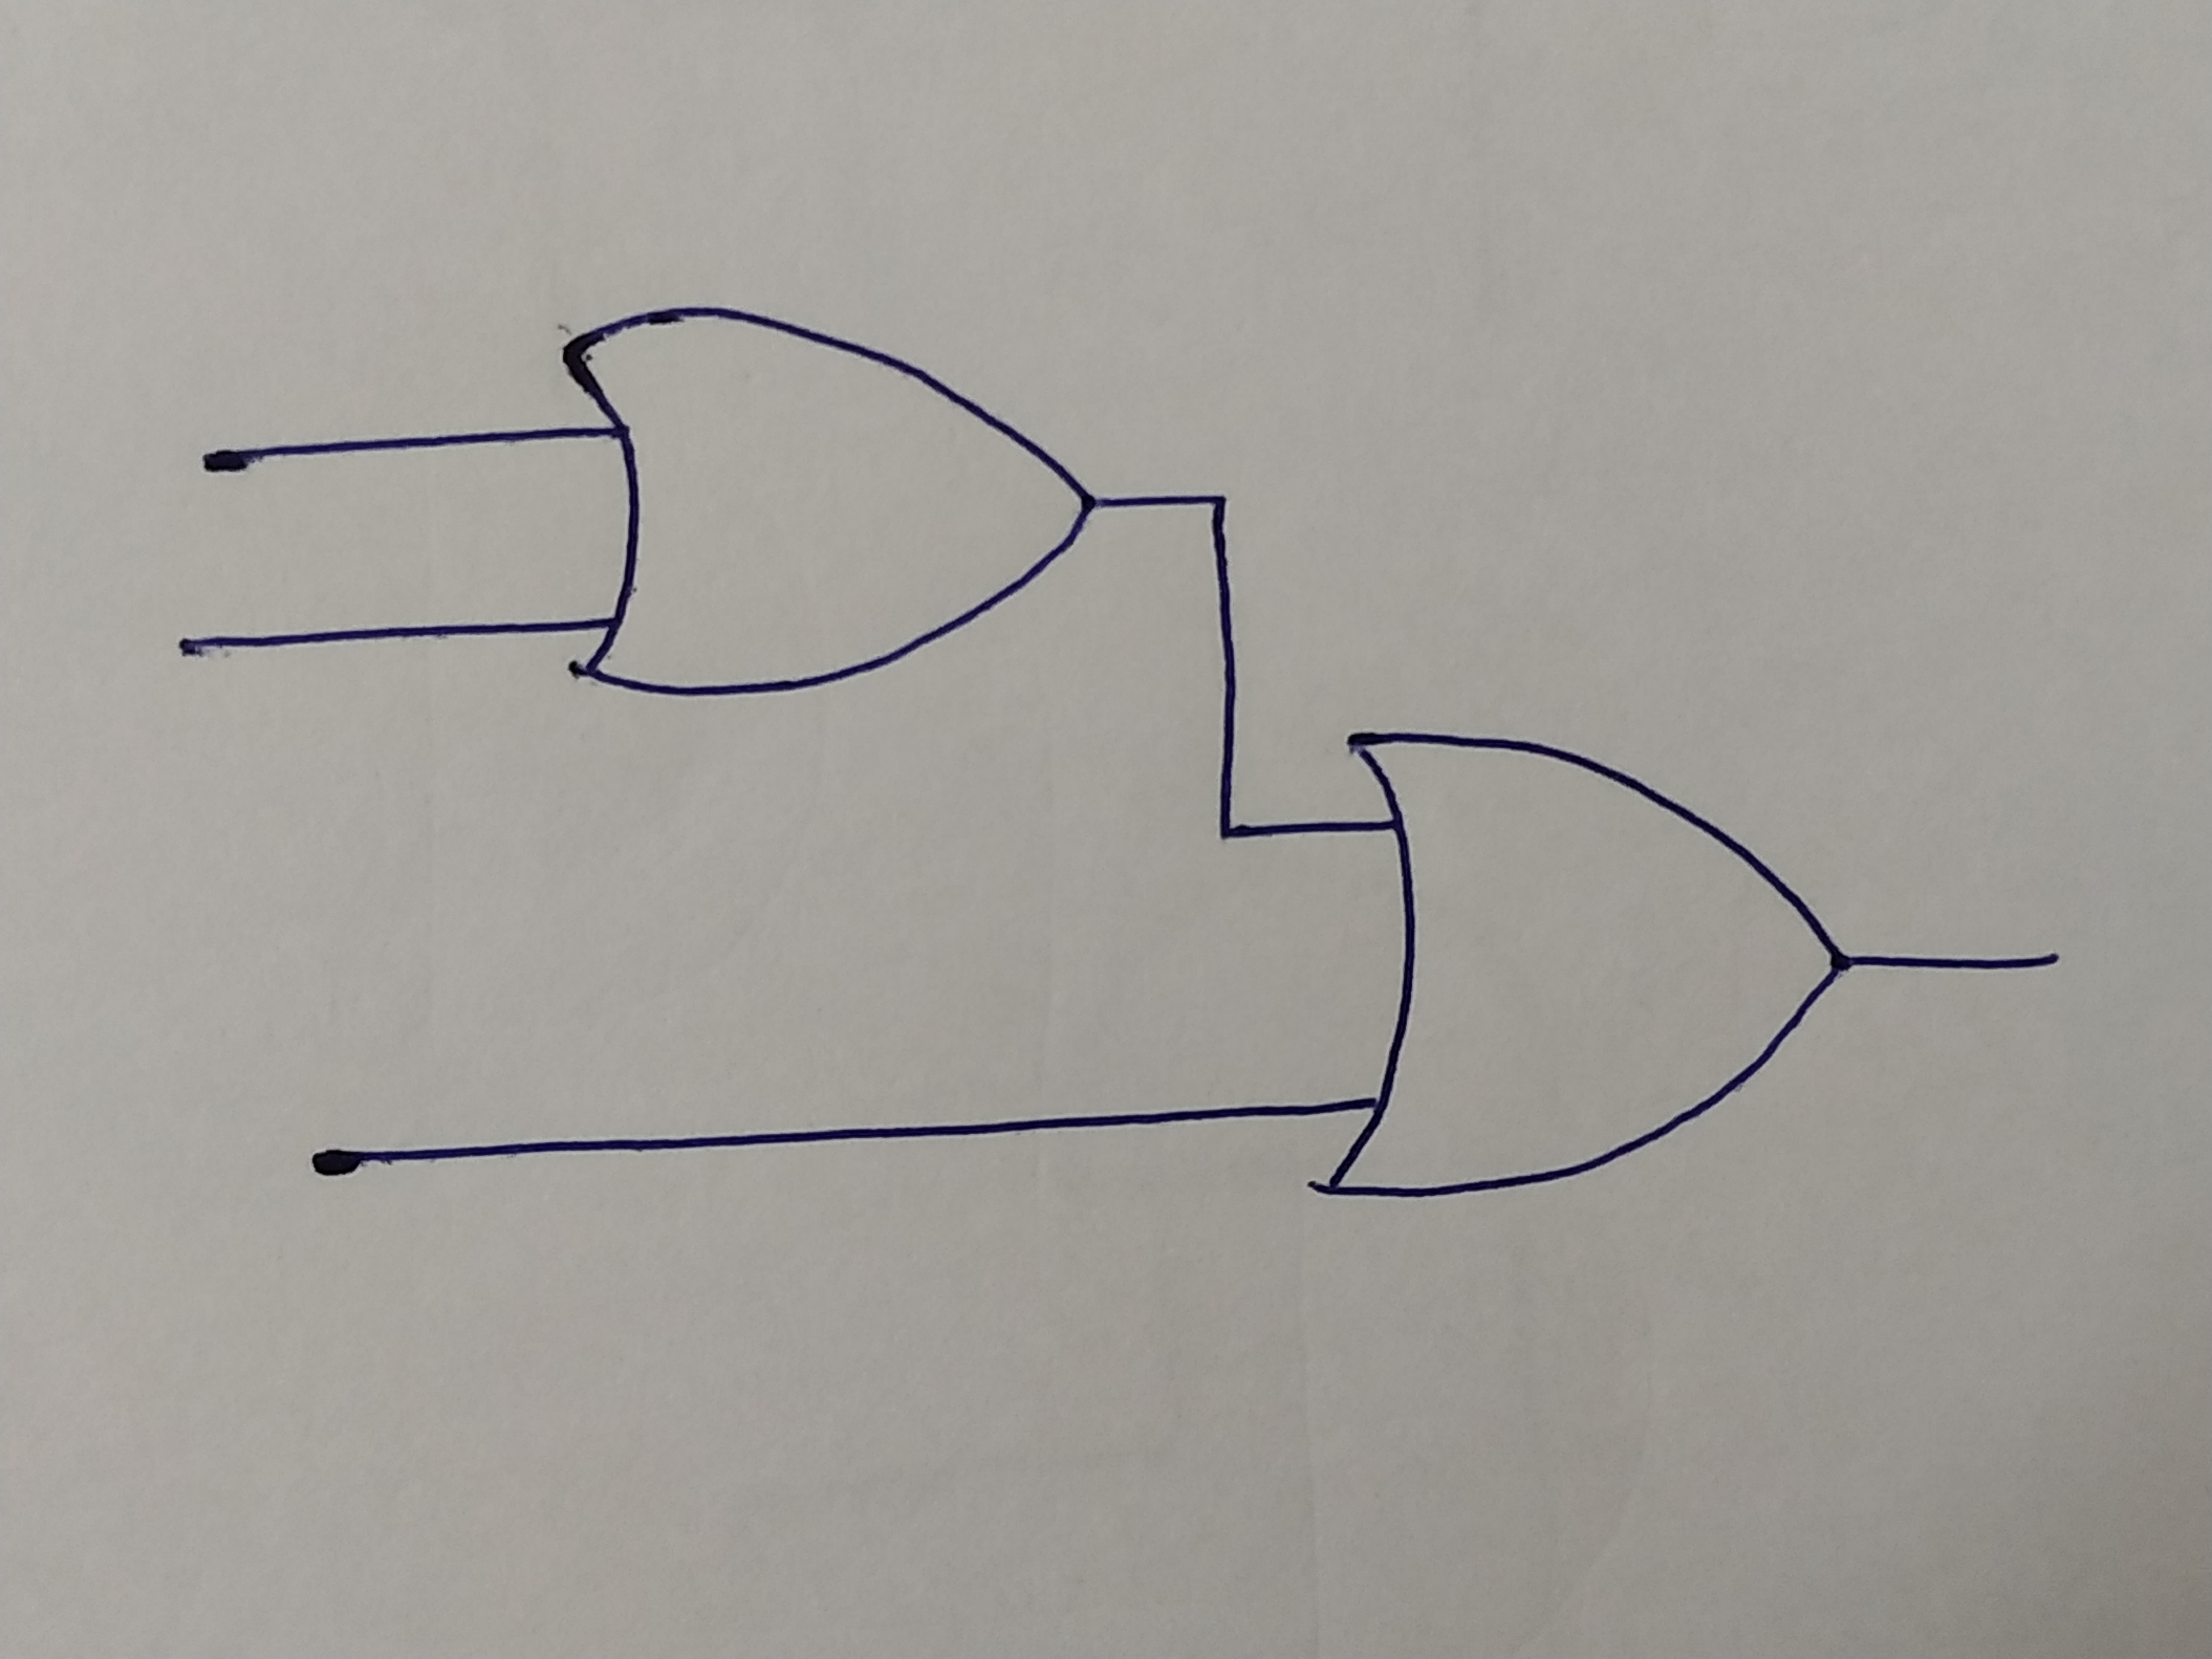or: (1329, 742, 1839, 1206), (559, 310, 1099, 697)
